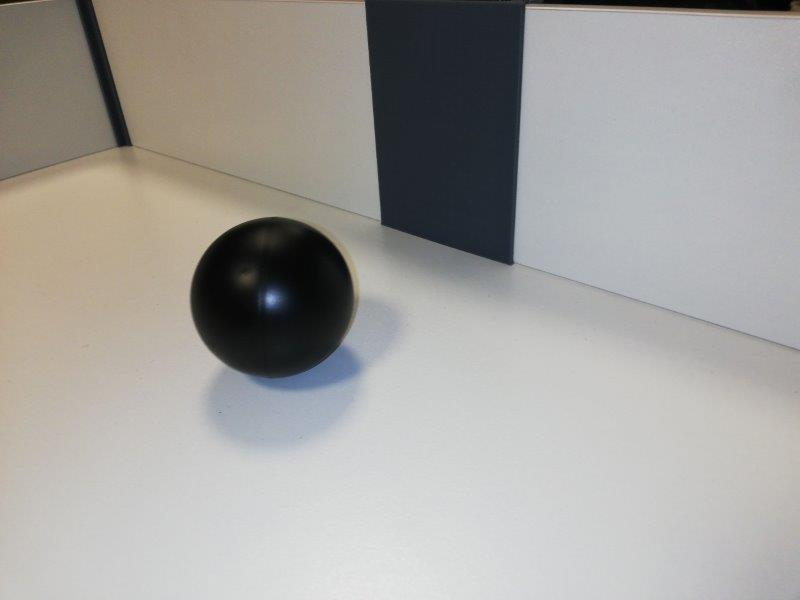nera: (190, 215, 354, 379)
